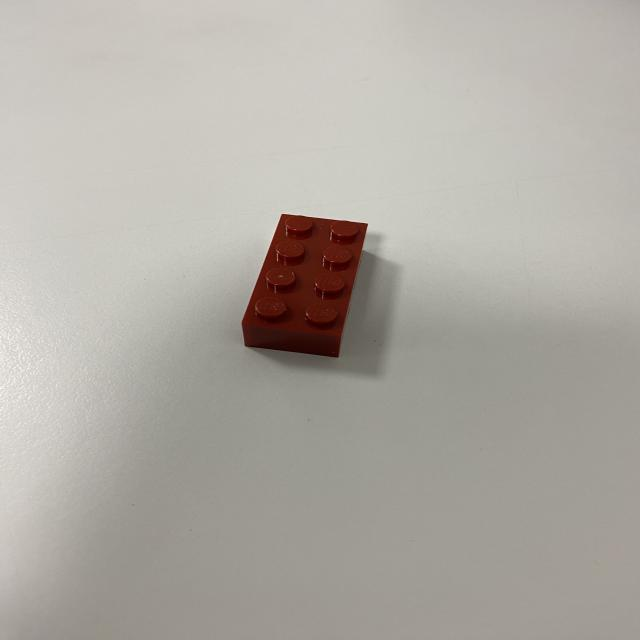C4x2x1: (239, 210, 372, 357)
